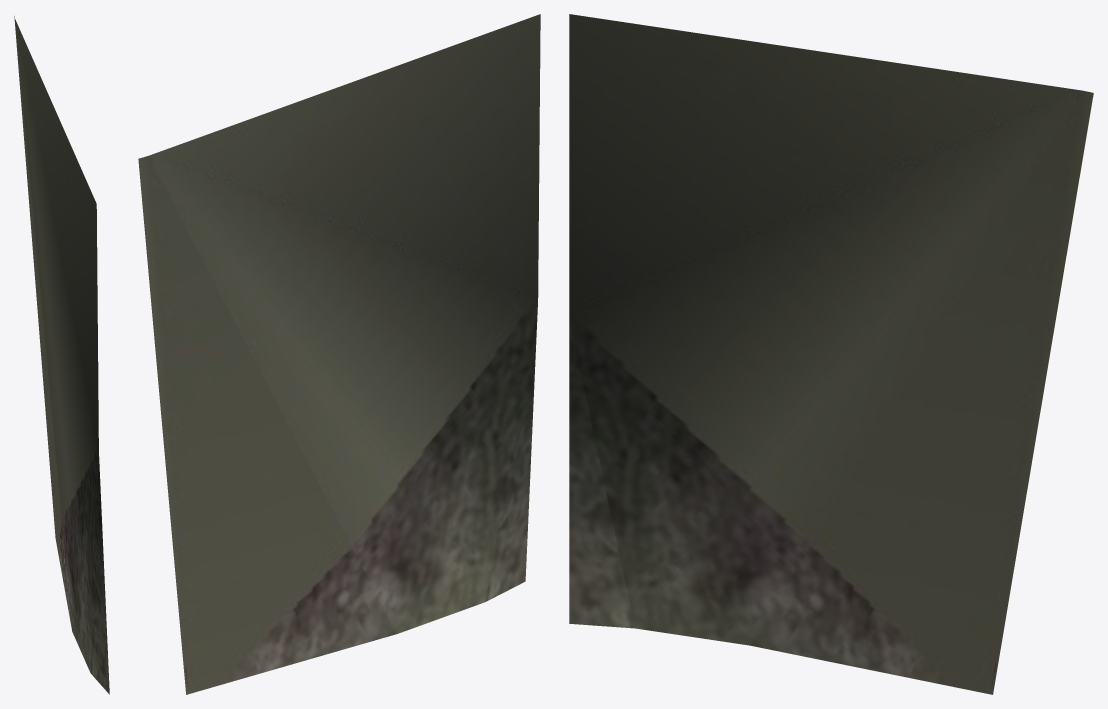
The picture shows the model from 3 angles, left to right: view 1: azimuth 30°, elevation 25°; view 2: azimuth 150°, elevation 25°; view 3: azimuth 270°, elevation 25°; orthographic projection. The views are drawn at different scales.
Bounding box in the file's own units: 0.8289 × 2.95 × 2.33.
Materials: 2 (2 with a texture image).
